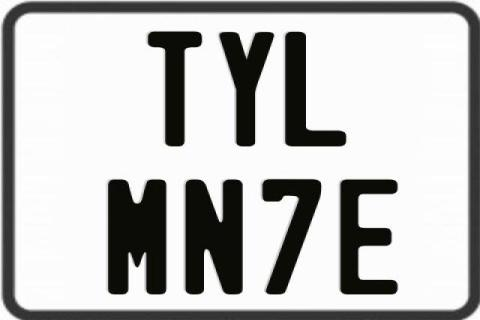0: (259, 180, 324, 296)
E: (338, 179, 402, 295)
L: (283, 30, 344, 146)
M: (108, 179, 170, 297)
N: (183, 178, 243, 298)
T: (146, 30, 200, 148)
Y: (218, 30, 278, 144)
